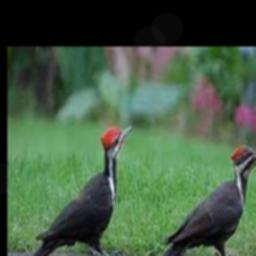Woodpecker: (24, 124, 134, 256), (145, 144, 256, 256)
